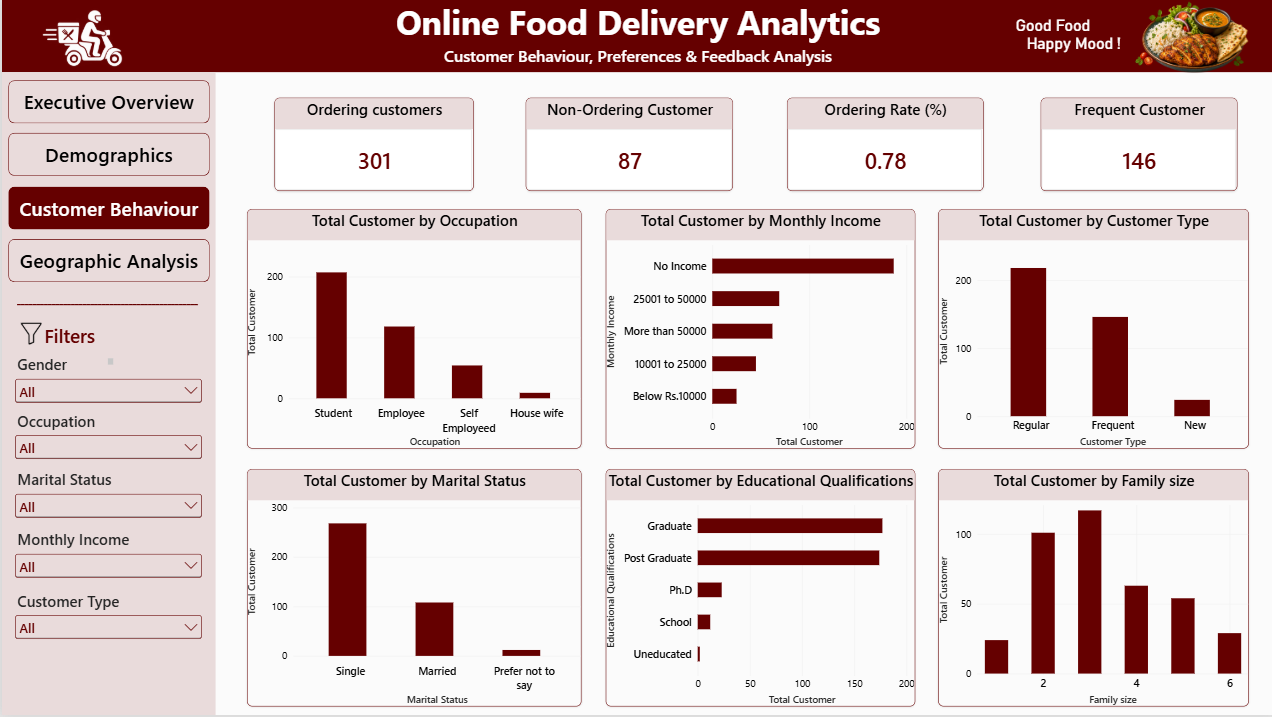

This screenshot's page, from the dashboard's own definition file:
{"tool":"powerbi","page":{"name":"Customer Behaviour","canvas":[1920,1080],"ordinal":2},"visuals":[{"type":"textbox","title":"Online Food Delivery Analytics","box":[0,0,1920.1,110.4],"z":0},{"type":"image","box":[36.2,0,175.5,110.4],"z":1000},{"type":"image","box":[1545.5,0,356.5,123.1],"z":2000},{"type":"textbox","box":[0,110.4,322.1,970],"z":3000},{"type":"actionButton","box":[9,123.1,304,65.1],"z":4000},{"type":"textbox","box":[1467.6,27.1,237.1,128.5],"z":5000},{"type":"actionButton","box":[9,202.7,304,65.1],"z":6000},{"type":"actionButton","box":[9,282.3,304,65.1],"z":7000},{"type":"actionButton","box":[9,361.9,304,65.1],"z":8000},{"type":"textbox","box":[21.7,445.2,291.4,181],"z":9000},{"type":"textbox","title":"Filters","box":[36.2,488.6,132.1,63.3],"z":10000},{"type":"image","box":[21.7,488.6,43.4,32.6],"z":11000},{"type":"slicer","title":"Gender","fields":{"Values":["online food delivery dataset (1).Gender"]},"box":[14.5,535.7,291.4,85.1],"z":12000},{"type":"slicer","fields":{"Values":["online food delivery dataset (1).Occupation"]},"box":[14.5,620.7,291.4,88.7],"z":13000},{"type":"slicer","fields":{"Values":["online food delivery dataset (1).Marital Status"]},"box":[14.5,709.4,291.4,90.5],"z":14000},{"type":"slicer","fields":{"Values":["online food delivery dataset (1).Monthly Income"]},"box":[14.5,799.9,291.4,92.3],"z":15000},{"type":"slicer","fields":{"Values":["online food delivery dataset (1).Customer Type"]},"box":[14.5,892.2,291.4,92.3],"z":16000},{"type":"cardVisual","title":"Ordering customers","fields":{"Data":["online food delivery dataset (1).Ordering customers"]},"box":[410.8,148.4,300.4,141.2],"z":17000},{"type":"cardVisual","title":"Non-Ordering Customer","fields":{"Data":["online food delivery dataset (1).Non-Ordering Customer"]},"box":[790.8,148.4,313.1,141.2],"z":18000},{"type":"cardVisual","title":"Ordering Rate  (%)","fields":{"Data":["online food delivery dataset (1).Ordering Rate"]},"box":[1185.3,148.4,296.8,141.2],"z":19000},{"type":"cardVisual","title":"Frequent Customer","fields":{"Data":["online food delivery dataset (1).Frequent Customer"]},"box":[1567.2,148.4,296.8,141.2],"z":20000},{"type":"columnChart","fields":{"Category":["online food delivery dataset (1).Occupation"],"Y":["online food delivery dataset (1).Total Customer"]},"box":[369.2,316.7,504.9,361.9],"z":21000},{"type":"barChart","fields":{"Category":["online food delivery dataset (1).Monthly Income"],"Y":["online food delivery dataset (1).Total Customer"]},"box":[912.1,316.7,466.9,361.9],"z":22000},{"type":"clusteredColumnChart","fields":{"Category":["online food delivery dataset (1).Customer Type"],"Y":["online food delivery dataset (1).Total Customer"]},"box":[1413.3,316.7,468.7,361.9],"z":23000},{"type":"columnChart","fields":{"Category":["online food delivery dataset (1).Marital Status"],"Y":["online food delivery dataset (1).Total Customer"]},"box":[369.2,709.4,504.9,358.3],"z":24000},{"type":"clusteredBarChart","fields":{"Category":["online food delivery dataset (1).Educational Qualifications"],"Y":["online food delivery dataset (1).Total Customer"]},"box":[912,709,467,358],"z":25000},{"type":"clusteredColumnChart","fields":{"Category":["online food delivery dataset (1).Family size"],"Y":["online food delivery dataset (1).Total Customer"]},"box":[1413,709,469,358],"z":26000}]}

Visuals, with their boxes in screenshot pixels (x1, y1, x2, y2), scaled from the page's 1920x1080 canvas onto the 1272x717 screenshot:
"Online Food Delivery Analytics" textbox: Rect(0, 0, 1271, 73)
image: Rect(24, 0, 140, 73)
image: Rect(1024, 0, 1260, 82)
textbox: Rect(0, 73, 213, 716)
actionButton: Rect(6, 82, 207, 125)
textbox: Rect(972, 18, 1129, 103)
actionButton: Rect(6, 135, 207, 178)
actionButton: Rect(6, 187, 207, 231)
actionButton: Rect(6, 240, 207, 283)
textbox: Rect(14, 296, 207, 416)
"Filters" textbox: Rect(24, 324, 111, 366)
image: Rect(14, 324, 43, 346)
"Gender" slicer: Rect(10, 356, 203, 412)
slicer - online food delivery dataset (1).Occupation: Rect(10, 412, 203, 471)
slicer - online food delivery dataset (1).Marital Status: Rect(10, 471, 203, 531)
slicer - online food delivery dataset (1).Monthly Income: Rect(10, 531, 203, 592)
slicer - online food delivery dataset (1).Customer Type: Rect(10, 592, 203, 654)
"Ordering customers" cardVisual: Rect(272, 99, 471, 192)
"Non-Ordering Customer" cardVisual: Rect(524, 99, 731, 192)
"Ordering Rate  (%)" cardVisual: Rect(785, 99, 982, 192)
"Frequent Customer" cardVisual: Rect(1038, 99, 1235, 192)
columnChart - online food delivery dataset (1).Occupation x online food delivery dataset (1).Total Customer: Rect(245, 210, 579, 451)
barChart - online food delivery dataset (1).Monthly Income x online food delivery dataset (1).Total Customer: Rect(604, 210, 914, 451)
clusteredColumnChart - online food delivery dataset (1).Customer Type x online food delivery dataset (1).Total Customer: Rect(936, 210, 1247, 451)
columnChart - online food delivery dataset (1).Marital Status x online food delivery dataset (1).Total Customer: Rect(245, 471, 579, 709)
clusteredBarChart - online food delivery dataset (1).Educational Qualifications x online food delivery dataset (1).Total Customer: Rect(604, 471, 914, 708)
clusteredColumnChart - online food delivery dataset (1).Family size x online food delivery dataset (1).Total Customer: Rect(936, 471, 1247, 708)
